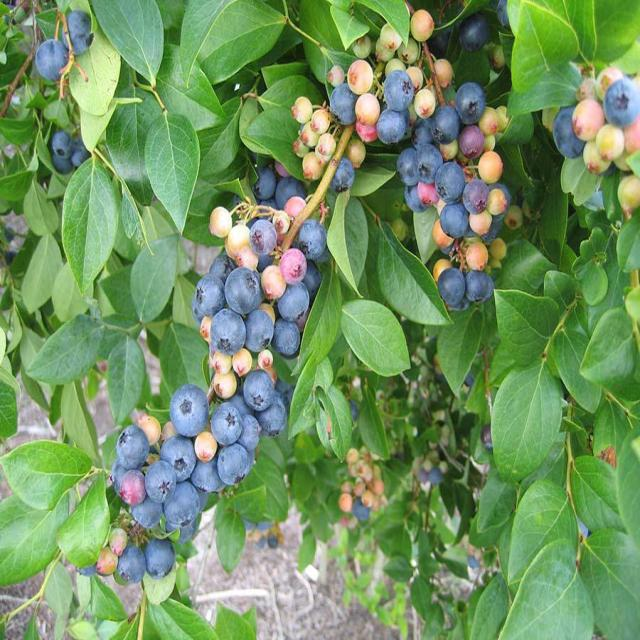BlueBerry - v1: (166, 381, 212, 442), (58, 5, 98, 62), (31, 33, 73, 87), (158, 476, 200, 529), (550, 102, 586, 163), (601, 71, 640, 127), (207, 306, 249, 358), (158, 431, 198, 482), (222, 268, 262, 317), (207, 399, 246, 449), (112, 426, 151, 474), (568, 98, 609, 143), (450, 77, 487, 126), (255, 388, 290, 438), (454, 9, 492, 53), (327, 78, 359, 129), (425, 99, 461, 144), (432, 156, 465, 205), (242, 304, 275, 353), (146, 455, 178, 505), (438, 197, 472, 244), (370, 106, 407, 149), (188, 455, 224, 498), (193, 270, 225, 318), (269, 314, 303, 359), (380, 68, 414, 113), (435, 265, 468, 311), (412, 140, 444, 187), (242, 369, 276, 413), (216, 446, 250, 490), (272, 174, 309, 214), (132, 491, 168, 532), (117, 466, 150, 510), (275, 280, 307, 324), (579, 139, 611, 182), (248, 217, 280, 260), (296, 218, 328, 261), (258, 262, 290, 304), (459, 173, 489, 217), (394, 146, 422, 192), (595, 119, 625, 161), (462, 266, 491, 308), (616, 168, 640, 218), (347, 55, 376, 96), (143, 536, 176, 572), (573, 70, 605, 107), (189, 426, 218, 466), (48, 121, 76, 162), (456, 123, 486, 161), (279, 247, 306, 289), (462, 239, 490, 279), (427, 24, 457, 61), (407, 7, 435, 46), (594, 62, 626, 96), (376, 20, 406, 56), (207, 203, 235, 240), (239, 414, 264, 455), (299, 149, 326, 186), (135, 411, 162, 448), (207, 371, 240, 401), (206, 252, 235, 286), (490, 0, 518, 35), (479, 147, 504, 186), (227, 220, 252, 259), (66, 142, 93, 178), (409, 114, 435, 151), (252, 165, 278, 202), (333, 158, 357, 198), (352, 91, 380, 125), (289, 94, 316, 129), (394, 36, 422, 68), (352, 118, 380, 149), (620, 112, 640, 155), (500, 197, 526, 229), (467, 206, 493, 238), (343, 136, 367, 170), (282, 194, 309, 224), (348, 30, 373, 62), (104, 522, 129, 554), (301, 259, 322, 297), (414, 84, 436, 120), (418, 180, 444, 210), (487, 181, 509, 216), (403, 184, 425, 219), (433, 56, 455, 91), (236, 247, 260, 279), (478, 104, 500, 138), (310, 106, 333, 138), (230, 349, 254, 379), (488, 39, 509, 73), (210, 348, 233, 379), (322, 60, 345, 90), (315, 130, 338, 159), (430, 252, 452, 282), (477, 421, 498, 452), (489, 232, 509, 264), (406, 61, 426, 92), (156, 417, 178, 445), (270, 210, 292, 237), (272, 156, 294, 182), (118, 542, 144, 564), (299, 122, 318, 152), (256, 345, 274, 375), (497, 104, 513, 136), (48, 156, 70, 179), (385, 58, 406, 80), (373, 42, 392, 64), (426, 466, 444, 489), (482, 130, 497, 155), (357, 508, 373, 530), (368, 493, 386, 512), (425, 446, 442, 466), (336, 492, 352, 512), (291, 136, 304, 160), (413, 460, 426, 483), (343, 446, 359, 464), (339, 478, 354, 495), (358, 488, 372, 506), (371, 476, 383, 496), (370, 461, 382, 479), (356, 461, 366, 475)
